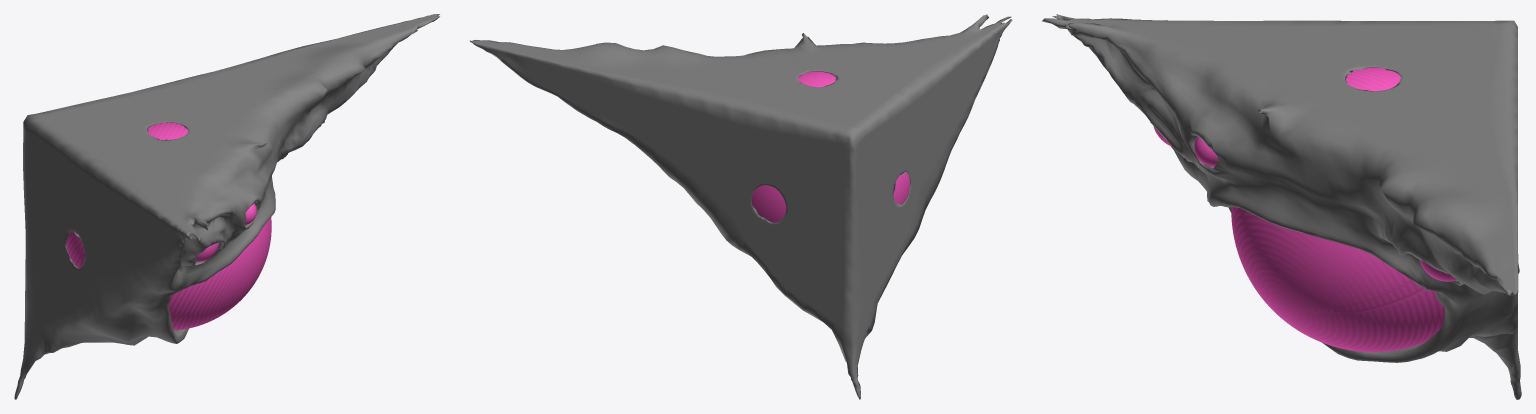
Rendered from corner_eye_no_balls.fbx.
The picture shows the model from 3 angles, left to right: view 1: azimuth 30°, elevation 25°; view 2: azimuth 150°, elevation 25°; view 3: azimuth 270°, elevation 25°; orthographic projection. The views are drawn at different scales.
Visible parts, largest first — view 1: cornera_low, balls_low; view 2: cornera_low, balls_low; view 3: cornera_low, balls_low.
Boxes of the visible parts, x1,y1,x2,y2 form: cornera_low: (14, 14, 439, 399); balls_low: (66, 122, 312, 330); cornera_low: (470, 14, 1012, 399); balls_low: (751, 71, 909, 222); cornera_low: (1042, 14, 1521, 399); balls_low: (1153, 67, 1457, 352).
Bounding box in the file's own units: 281 × 184 × 202.
